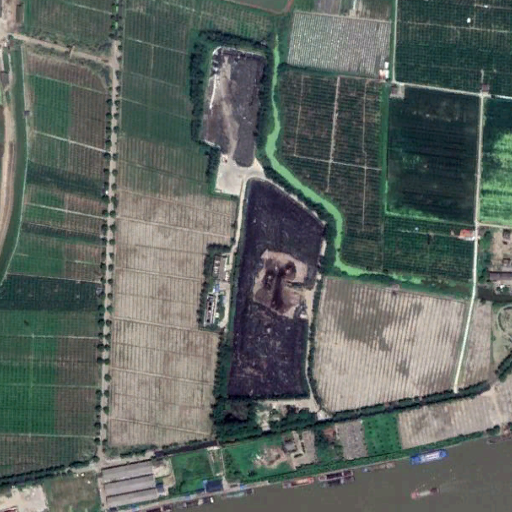lf: (228, 176, 328, 404), (198, 45, 265, 169)
